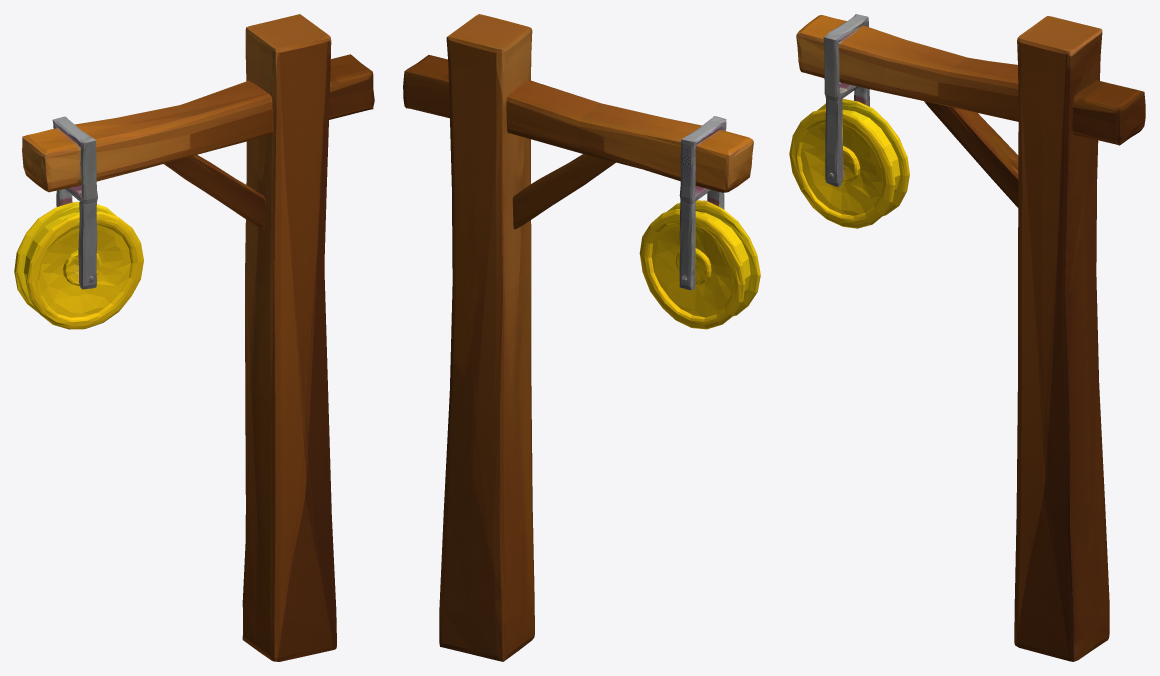
Rendered from pulley_Pole.glb.
3 views of the same model, side by side, from view 1: azimuth 30°, elevation 25°; view 2: azimuth 150°, elevation 25°; view 3: azimuth 330°, elevation 25° (orthographic).
Parts seen in each view (by area): view 1: mesh_node; view 2: mesh_node; view 3: mesh_node.
Part boxes in pixels (x1,y1,x2,y2): mesh_node: (14,14,374,661); mesh_node: (403,14,760,661); mesh_node: (789,14,1145,661).
Bounding box in the file's own units: 0.584 × 1 × 0.1023.
Materials: 1 (1 with a texture image).
